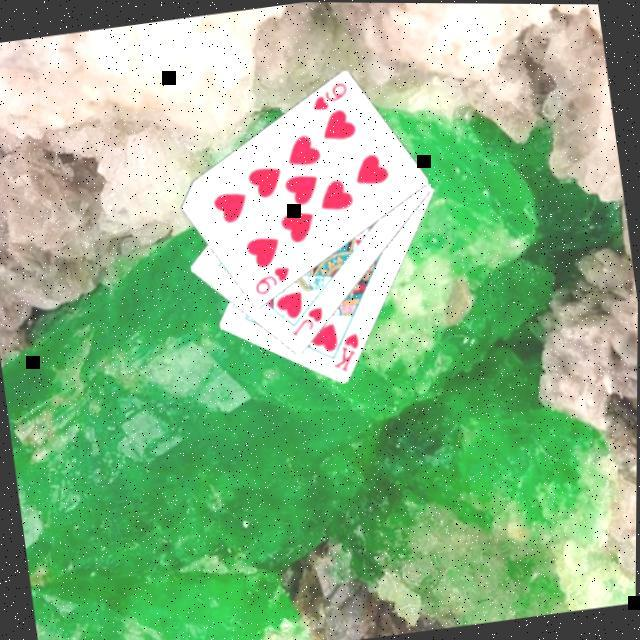9H: (250, 262, 298, 300), (308, 78, 354, 116)
JH: (288, 304, 330, 341)
KH: (328, 330, 368, 378)
